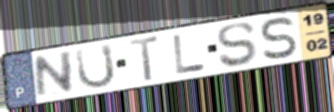L: (172, 32, 207, 76)
N: (32, 49, 76, 100)
S: (215, 21, 257, 70), (259, 15, 299, 61)
T: (129, 34, 162, 84)
U: (74, 42, 118, 91)
